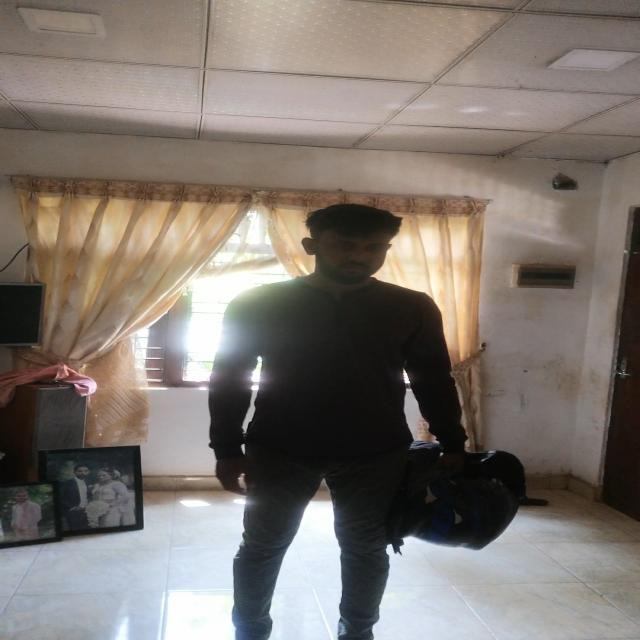Person: (212, 199, 474, 609)
